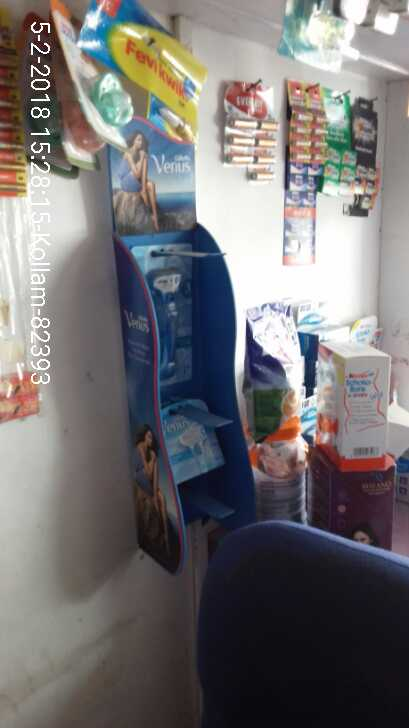venus: (133, 245, 193, 388), (152, 395, 216, 484)
